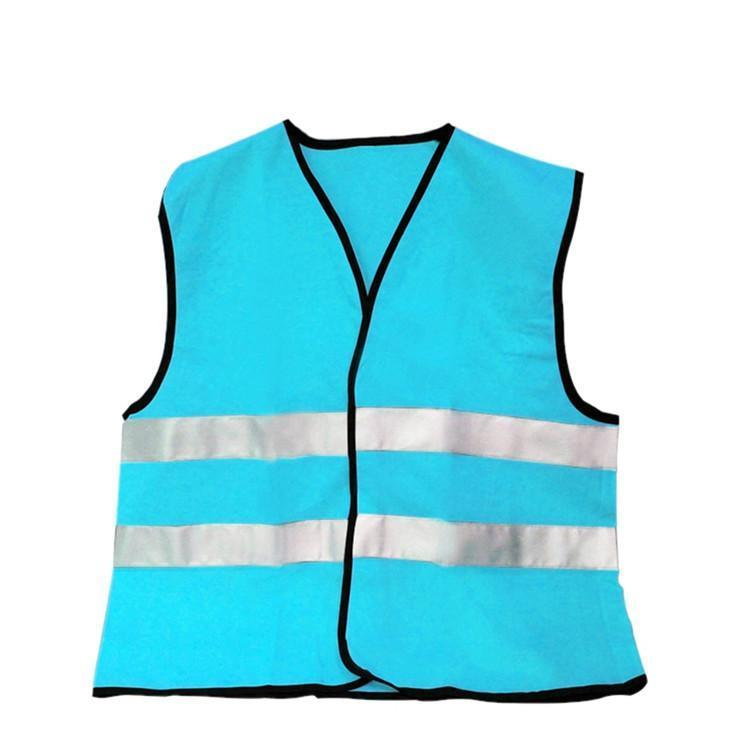vest: (85, 114, 646, 703)
